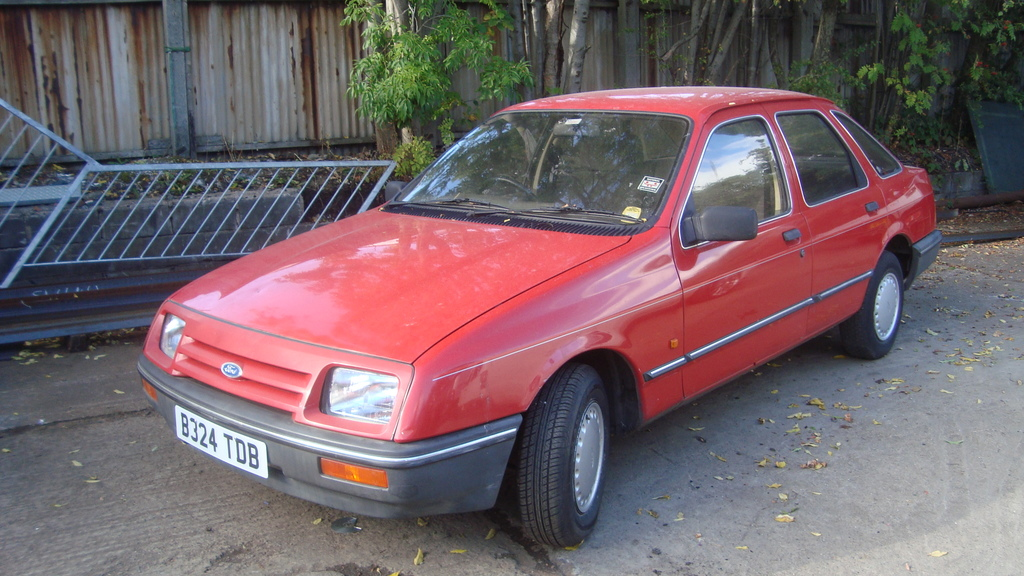Tree: (320, 0, 1023, 182)
